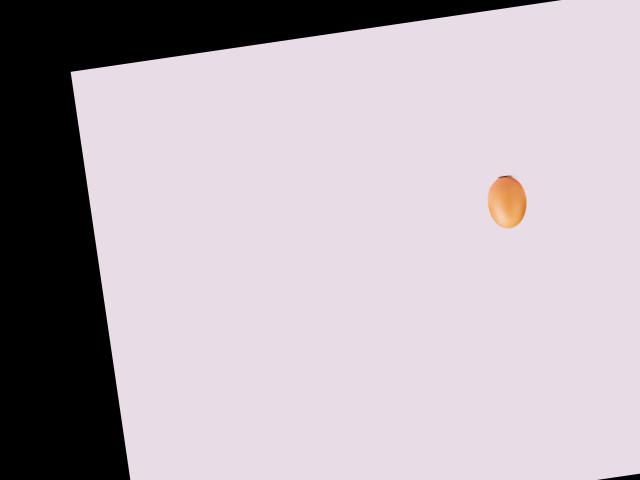egg: (485, 173, 530, 230)
